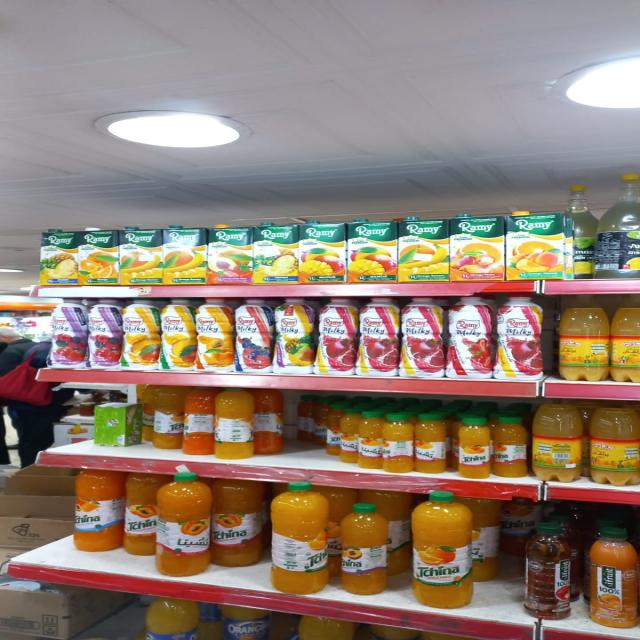ifruit_plastique: (586, 530, 640, 625), (524, 522, 574, 620)
ngaous_plastique: (558, 300, 610, 382), (532, 403, 584, 482), (589, 406, 639, 485)
ramy_carton: (506, 210, 565, 281), (448, 214, 505, 284), (344, 218, 400, 285), (298, 220, 353, 285), (397, 216, 449, 284), (253, 222, 299, 285), (158, 227, 206, 287), (207, 225, 254, 286), (118, 228, 163, 286), (76, 229, 121, 286), (42, 228, 80, 286)
ramy_plastique: (496, 296, 546, 380), (446, 296, 494, 379), (399, 298, 445, 378), (357, 298, 403, 377), (317, 298, 361, 374), (232, 298, 276, 374), (193, 299, 238, 373), (272, 298, 314, 374), (120, 298, 163, 369), (46, 298, 88, 370), (159, 298, 200, 371), (86, 299, 126, 369)
tchina_plastique: (410, 490, 472, 608), (269, 480, 330, 594), (155, 469, 214, 578), (211, 477, 265, 567), (339, 501, 389, 597), (361, 487, 412, 577), (74, 467, 126, 552), (311, 482, 358, 576), (455, 493, 502, 582), (124, 471, 170, 556), (213, 388, 254, 458), (149, 384, 189, 448), (491, 413, 528, 479), (182, 387, 218, 454), (381, 412, 416, 473), (251, 390, 284, 453), (458, 419, 492, 478), (414, 414, 447, 474), (359, 412, 386, 472)
